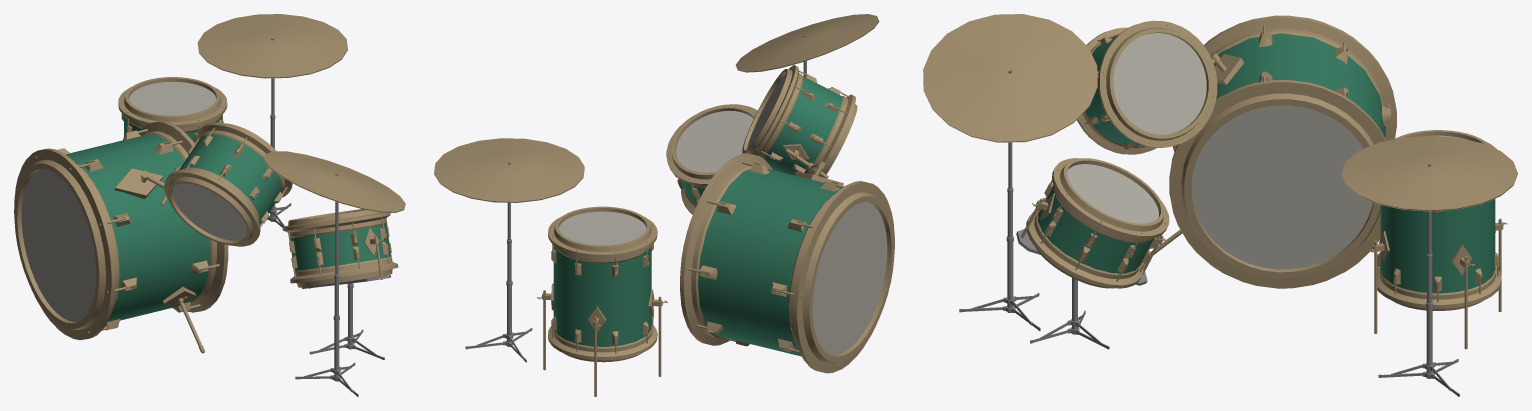
The model's file is drums.fbx.
The picture shows the model from 3 angles, left to right: view 1: azimuth 30°, elevation 25°; view 2: azimuth 150°, elevation 25°; view 3: azimuth 270°, elevation 25°; orthographic projection. The views are drawn at different scales.
Parts seen in each view (by area): view 1: pCylinder133; view 2: pCylinder133; view 3: pCylinder133.
Boxes of the visible parts, left/top/right/bottom form: pCylinder133: left=14, top=14, right=405, bottom=396; pCylinder133: left=434, top=14, right=894, bottom=396; pCylinder133: left=923, top=14, right=1517, bottom=396.
Bounding box in the file's own units: 12.91 × 8.12 × 16.55.
